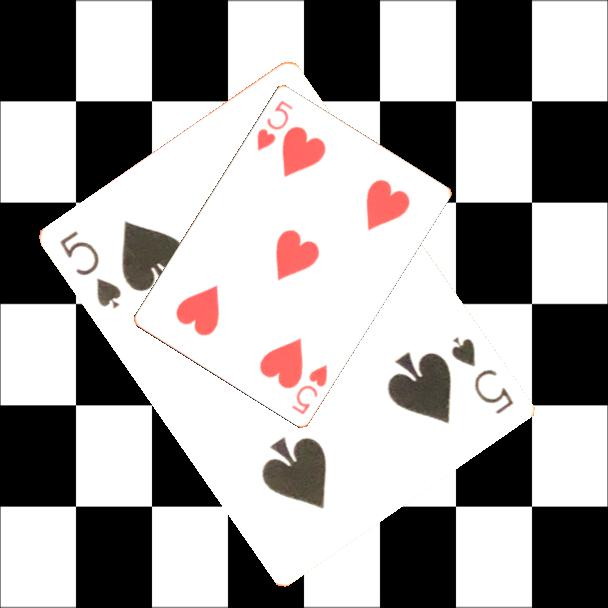h05: (253, 96, 296, 154), (288, 360, 330, 417)
s05: (448, 333, 517, 418), (56, 227, 125, 312)
